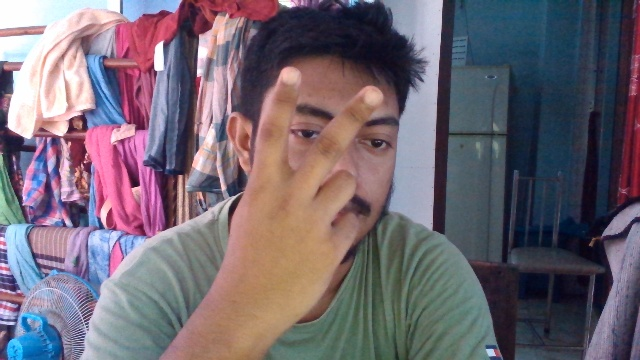thanks: (241, 62, 383, 309)
